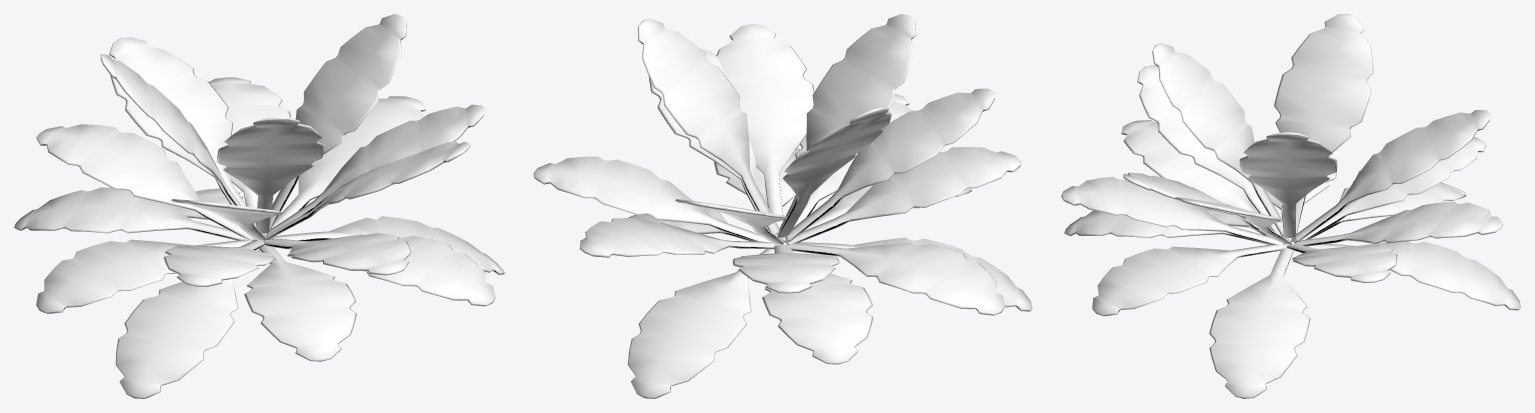
File: SMFol_VolcanicFlats_GroundselFrond.fbx
The picture shows the model from 3 angles, left to right: view 1: azimuth 30°, elevation 25°; view 2: azimuth 150°, elevation 25°; view 3: azimuth 270°, elevation 25°; orthographic projection. The views are drawn at different scales.
Visible parts, largest first — view 1: Plane.081; view 2: Plane.081; view 3: Plane.081.
Part boxes in pixels (box(x1,y1,x2,y2)): Plane.081: box(14, 14, 504, 398); Plane.081: box(533, 14, 1032, 398); Plane.081: box(1061, 14, 1520, 398).
Bounding box in the file's own units: 1059 × 588 × 1056.
1 material, 1 textured.
